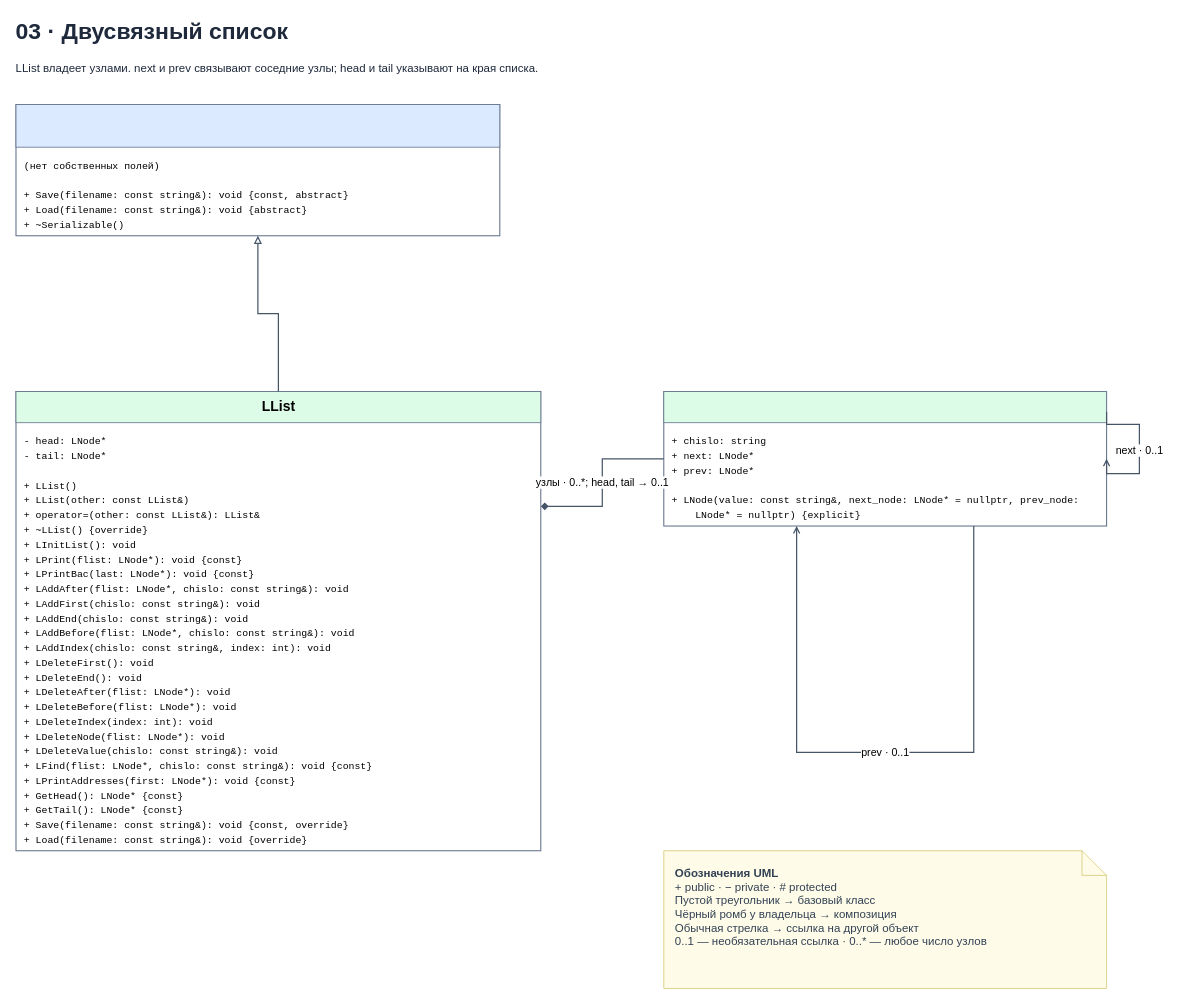
The diagram is 1177 pixels wide and 1003 high, and some of its shapes have lost their labels. The shapes that lost their labels are listed below. From the top down, each one's centre as x and y in pixels, then its label:
At pixel 257 125: "«abstract» Serializable".
At pixel 885 407: "LNode".
